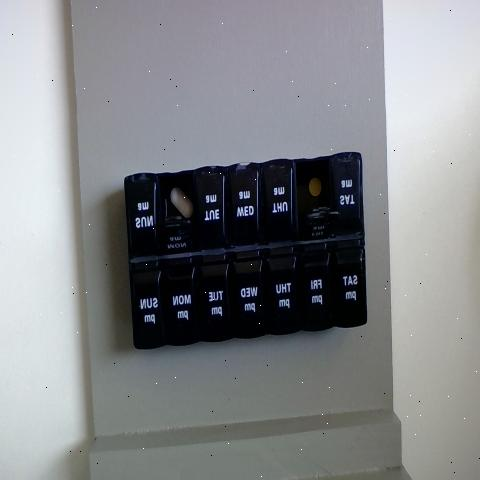FRI-pm: (300, 244, 331, 325)
MON-pm: (167, 261, 199, 338)
Open: (296, 161, 339, 241), (164, 171, 196, 225)
Pill: (168, 183, 192, 222), (304, 170, 326, 204)
PillBox: (107, 111, 379, 363)
SAT-am: (328, 156, 361, 241)
SAT-pm: (333, 241, 365, 324)
SUN-am: (125, 174, 158, 258)
SUN-pm: (132, 268, 164, 345)
THU-am: (263, 157, 296, 243)
THU-pm: (268, 250, 298, 330)
TUE-am: (194, 163, 226, 242)
TUE-pm: (198, 256, 229, 335)
WED-am: (228, 162, 260, 246)
WED-pm: (234, 257, 262, 332)
